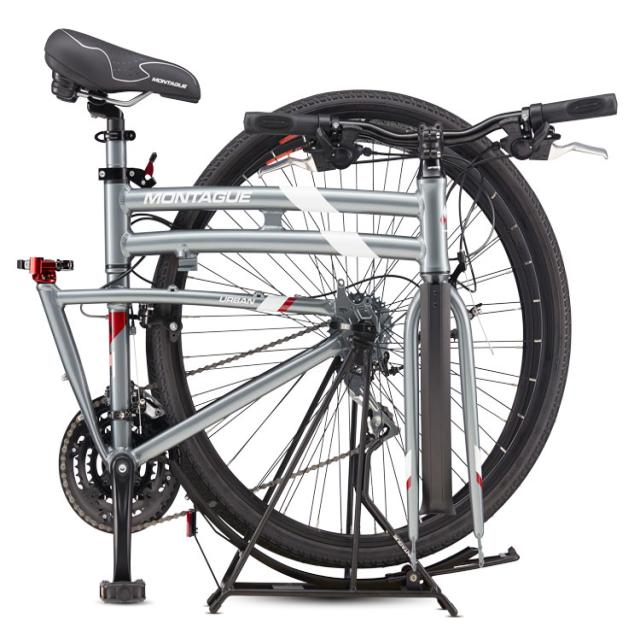folding-bike: (13, 24, 620, 616)
